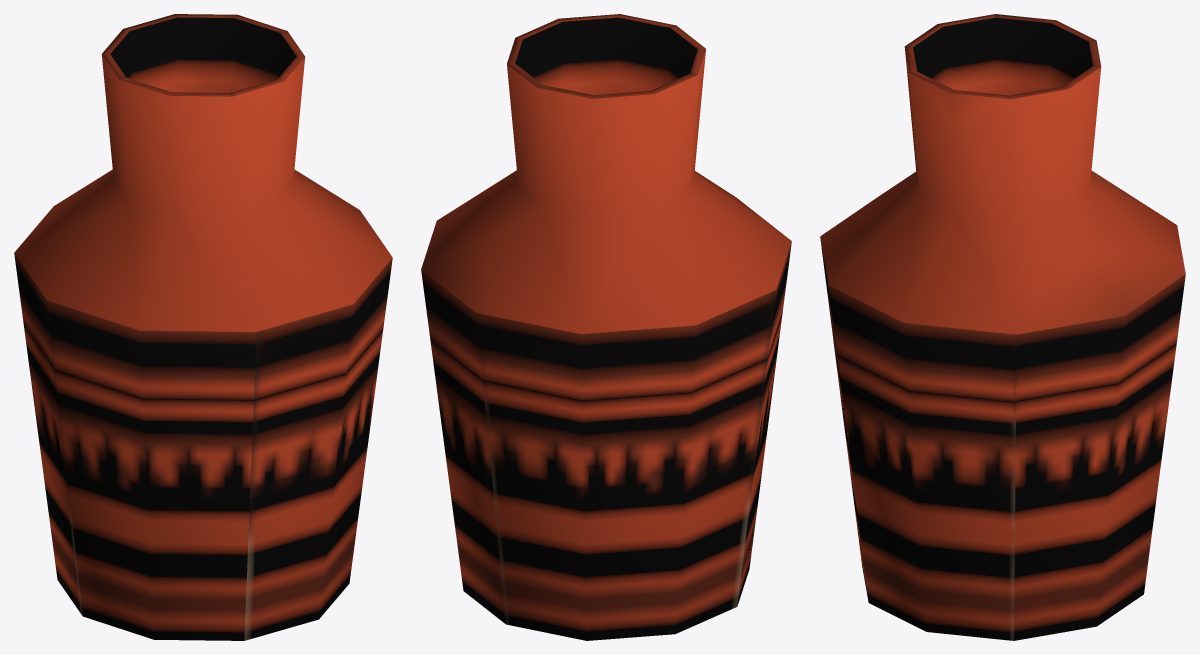
Rendered from cer_4.dae.
The picture shows the model from 3 angles, left to right: view 1: azimuth 30°, elevation 25°; view 2: azimuth 150°, elevation 25°; view 3: azimuth 270°, elevation 25°; orthographic projection.
Visible parts, largest first — view 1: cer_4; view 2: cer_4; view 3: cer_4.
Part boxes in pixels (x1,y1,x2,y2): cer_4: (14, 14, 392, 640); cer_4: (421, 14, 791, 640); cer_4: (820, 14, 1185, 640).
Bounding box in the file's own units: 0.9573 × 0.9326 × 1.47.
